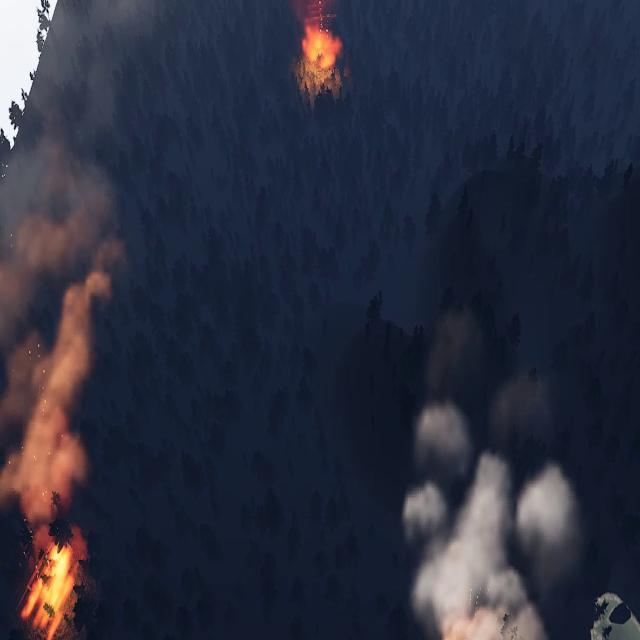fire: (20, 538, 74, 625), (302, 15, 341, 76)
smoke: (404, 311, 584, 637), (0, 104, 110, 527), (290, 0, 333, 21)
